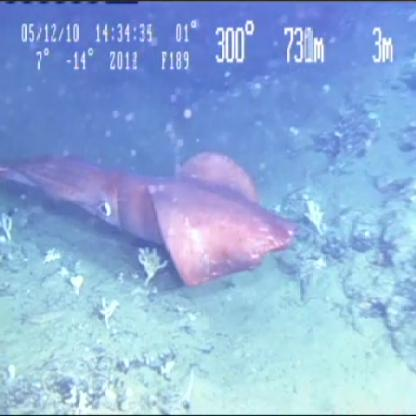Bio: (1, 145, 301, 294), (134, 244, 169, 291), (93, 291, 123, 332)
